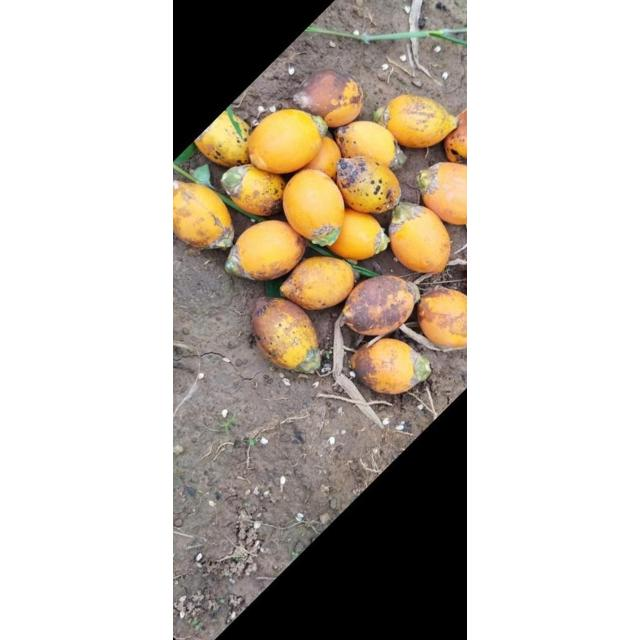good: (250, 298, 322, 374), (282, 168, 346, 244), (227, 221, 306, 281), (349, 338, 431, 394), (341, 275, 417, 335), (388, 203, 452, 273), (382, 95, 460, 148), (292, 69, 363, 127), (280, 256, 356, 310), (174, 182, 234, 250), (336, 156, 402, 214), (222, 164, 288, 218), (334, 120, 402, 170), (194, 110, 252, 167), (326, 210, 388, 262), (416, 162, 466, 224), (416, 288, 464, 348), (300, 136, 342, 180)
